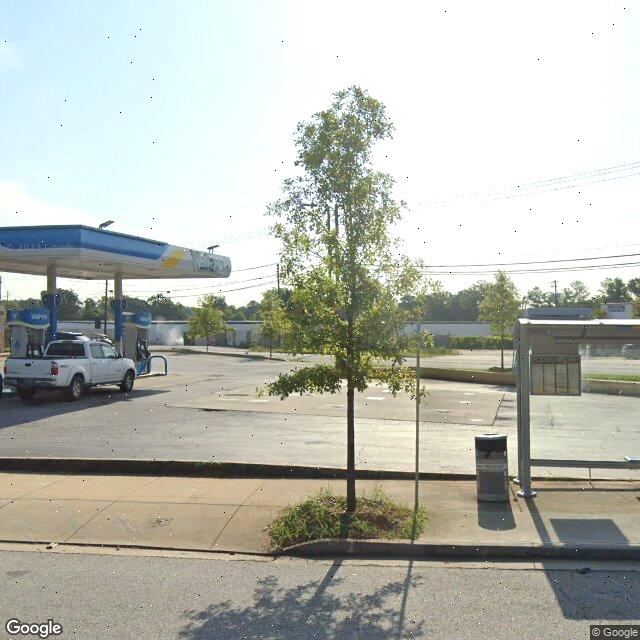seating: (625, 454, 640, 486)
shelter: (513, 312, 640, 499)
trash_can: (474, 433, 508, 502)
